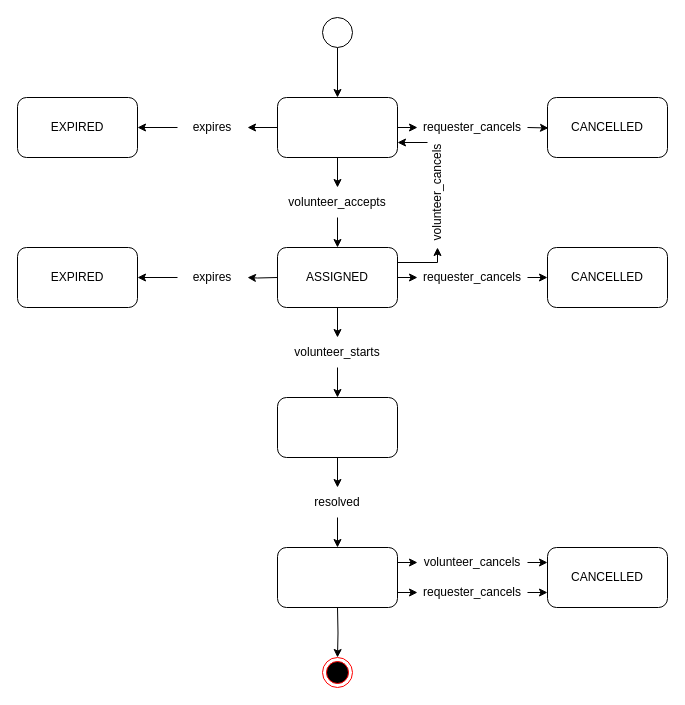
This 685x705 diagram has some shape labels left out. Each missing label, with the box of its shape:
COMPLETED: (276, 546, 398, 608)
CREATED: (276, 96, 398, 158)
IN_PROGRESS: (276, 396, 398, 458)
